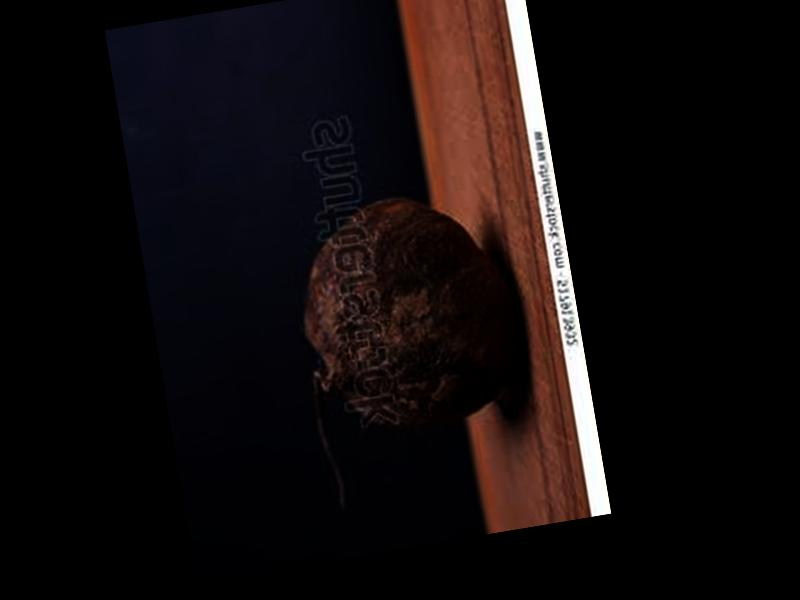Beet: (281, 182, 542, 516)
